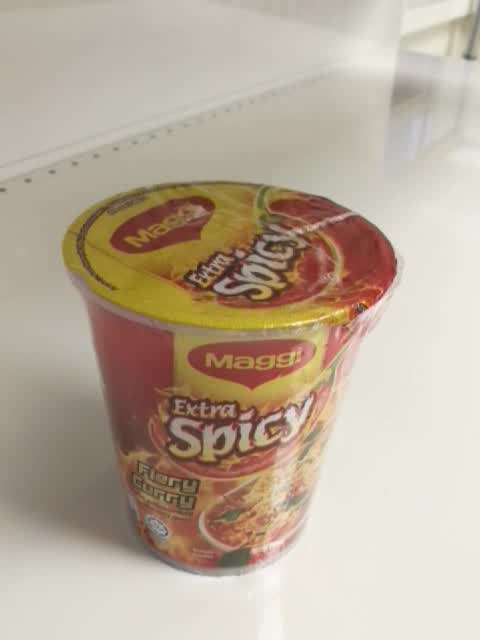maggi: (61, 179, 398, 578)
